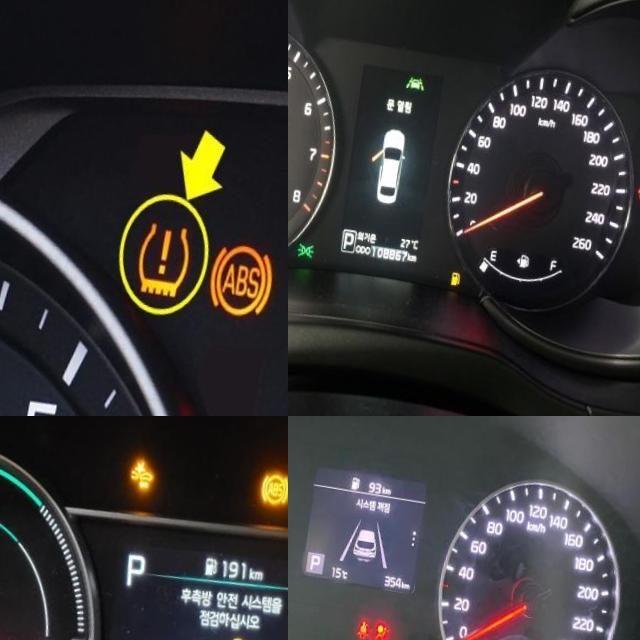Low fuel level: (462, 255, 474, 271)
SideLamp: (309, 232, 327, 249)
